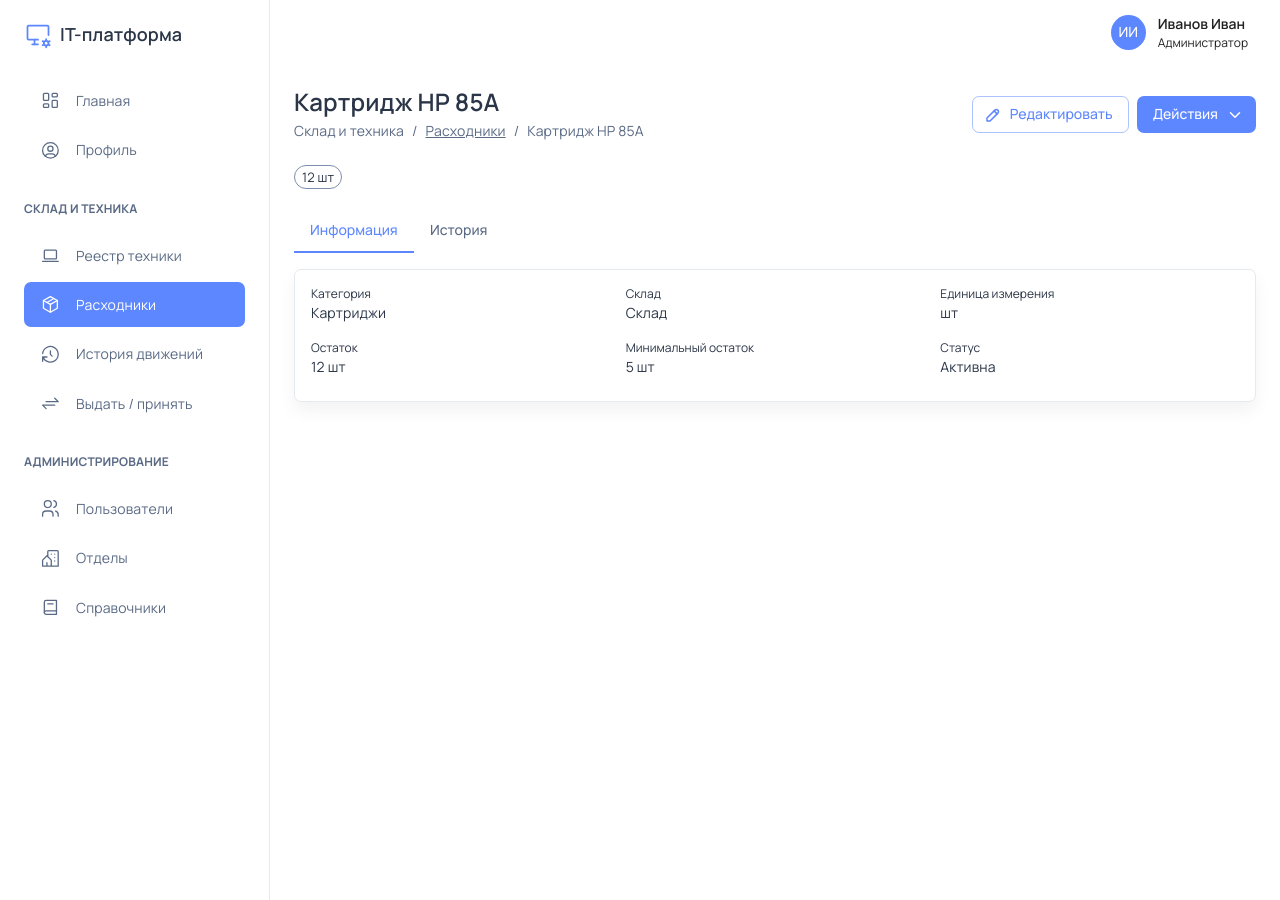
it: операция при изменившемся остатке: уведомление и перезагрузка карточки
The image size is (1280, 900).
Click the button "Действия": (1196, 115) left=1137, top=96, right=1256, bottom=133
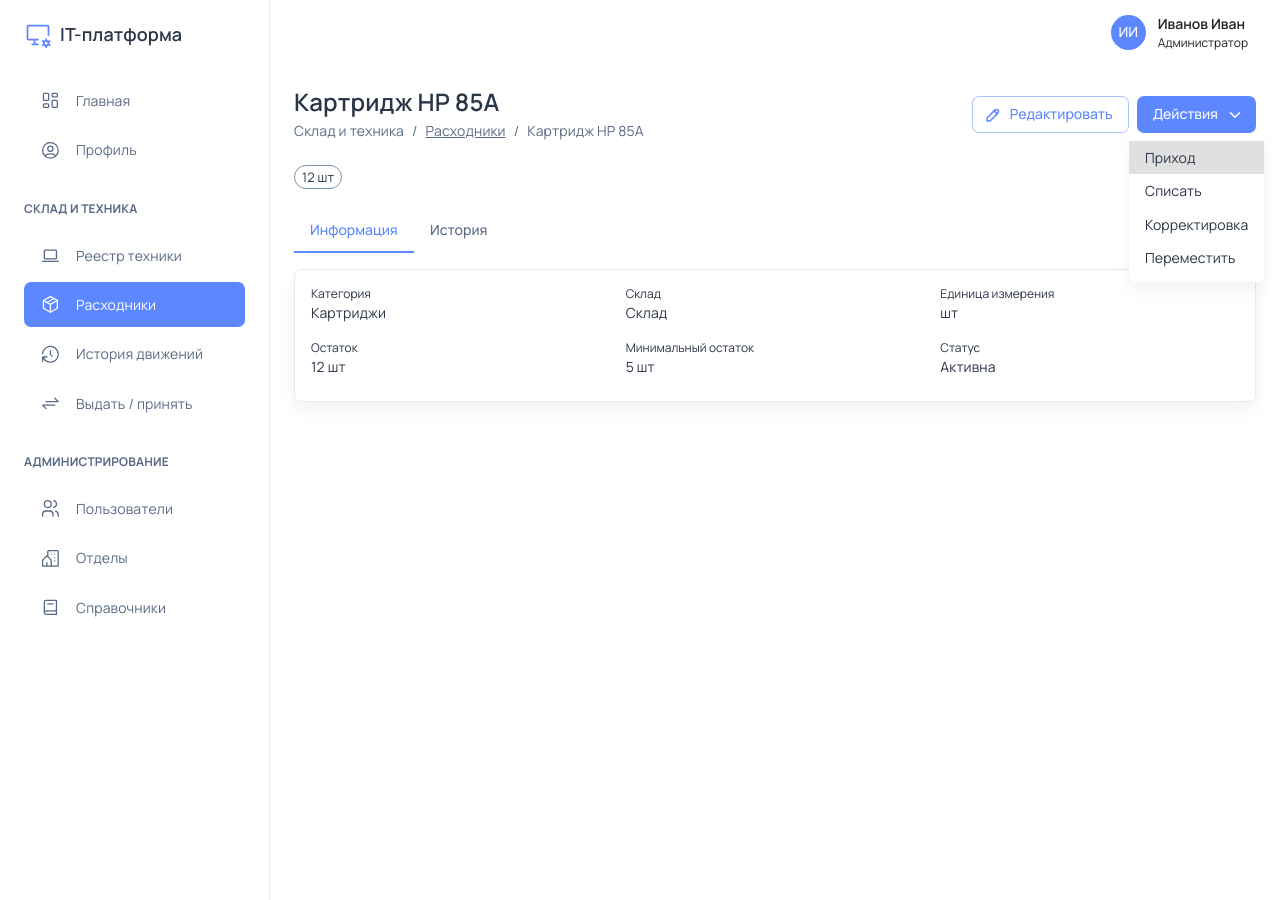
Click the menu item "Переместить": (1190, 258) left=1145, top=248, right=1236, bottom=267
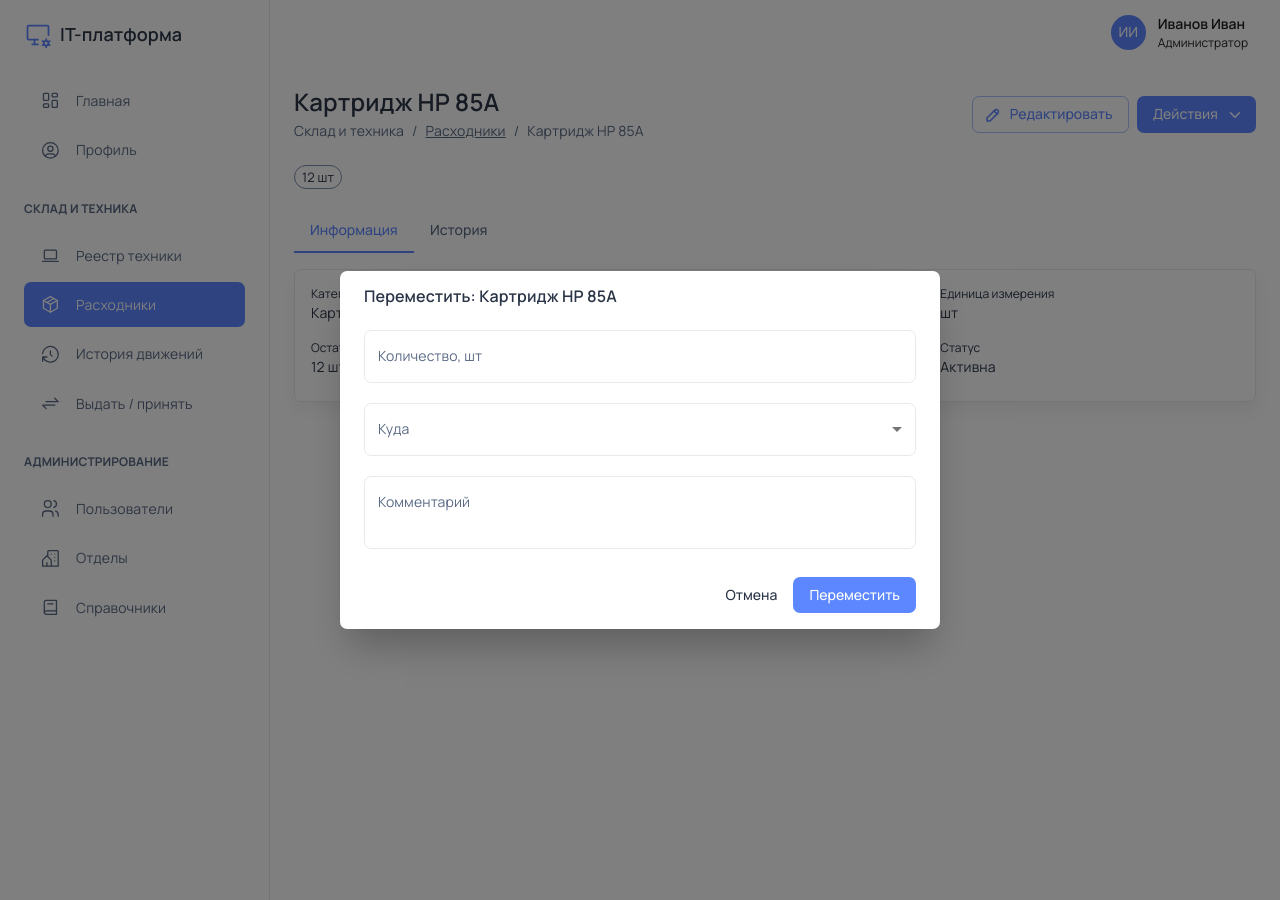
Click the dropdown named "Куда": (640, 429) left=364, top=403, right=916, bottom=456
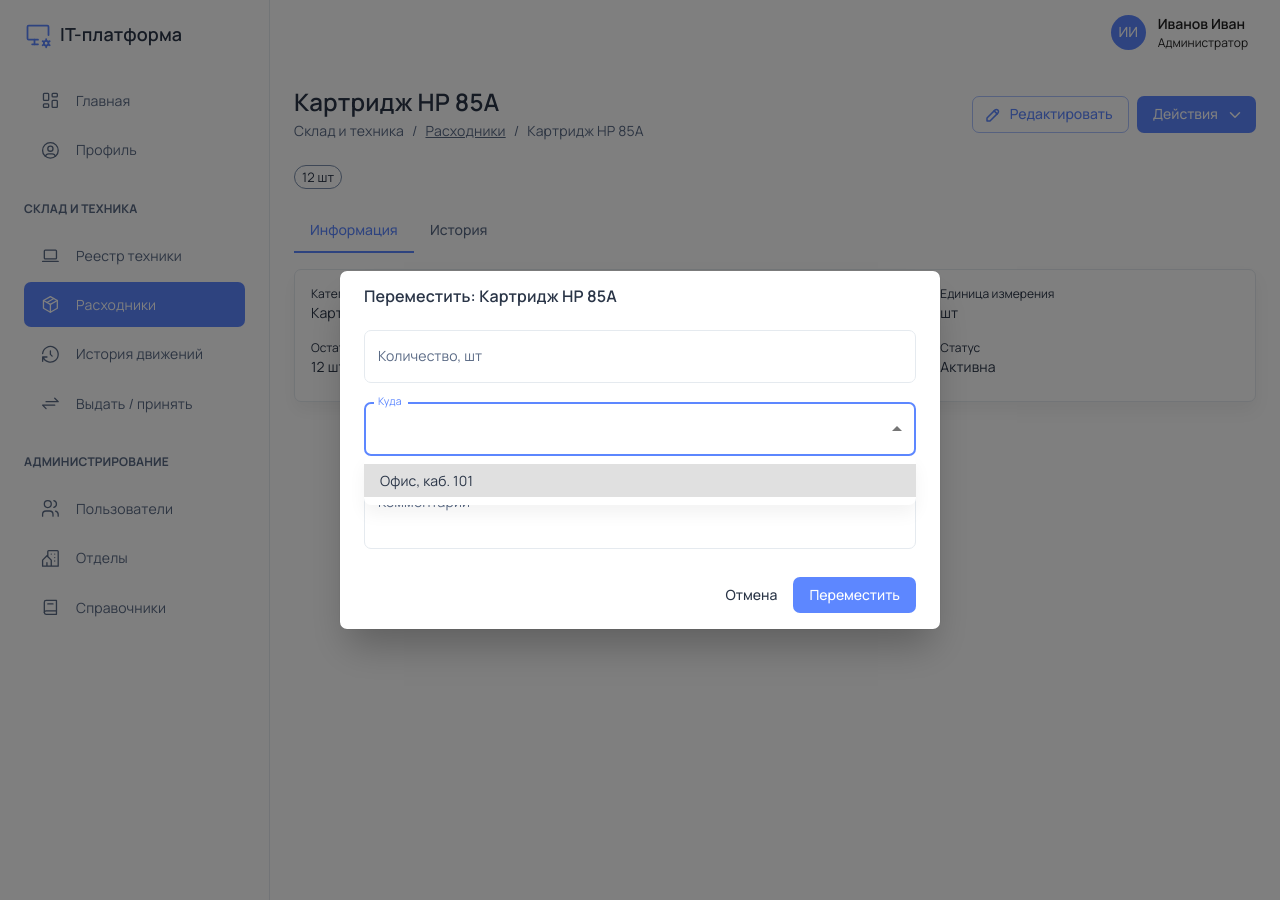
Click the option "Офис, каб. 101": (426, 480) left=364, top=464, right=916, bottom=497
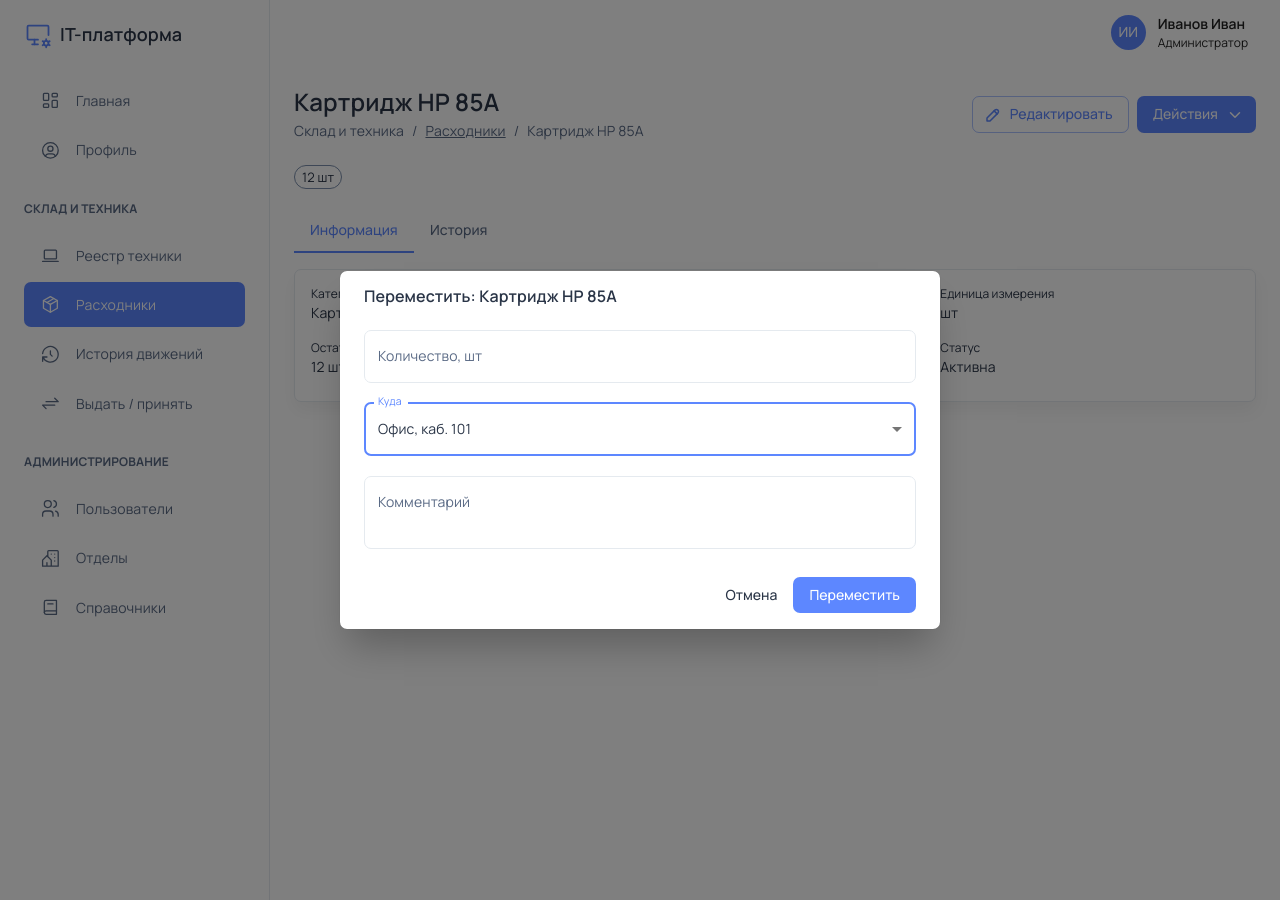
In the field labelled "Количество, шт": (640, 356) left=364, top=330, right=916, bottom=383, type "12"
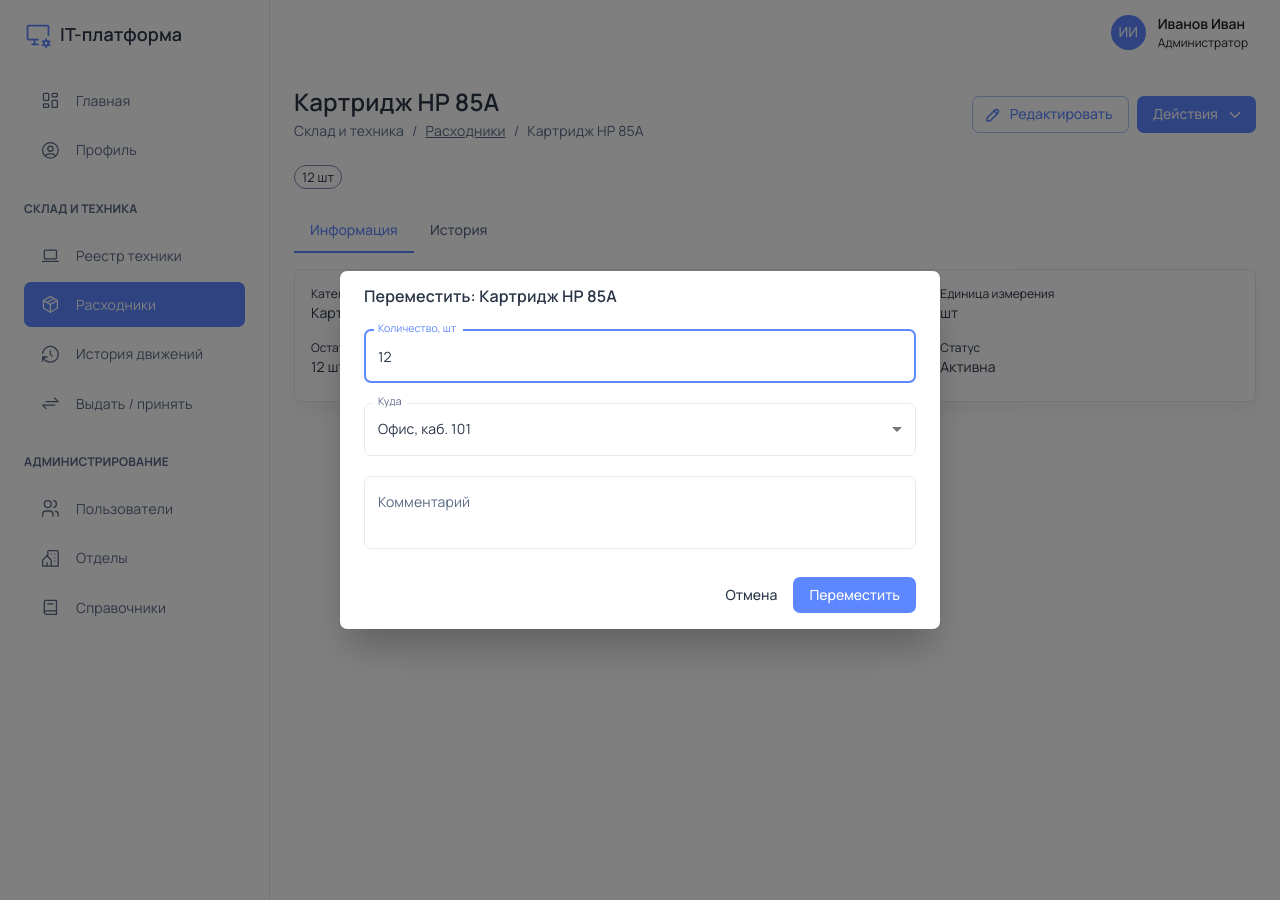
Click the button "Переместить": (855, 595) left=793, top=577, right=916, bottom=614
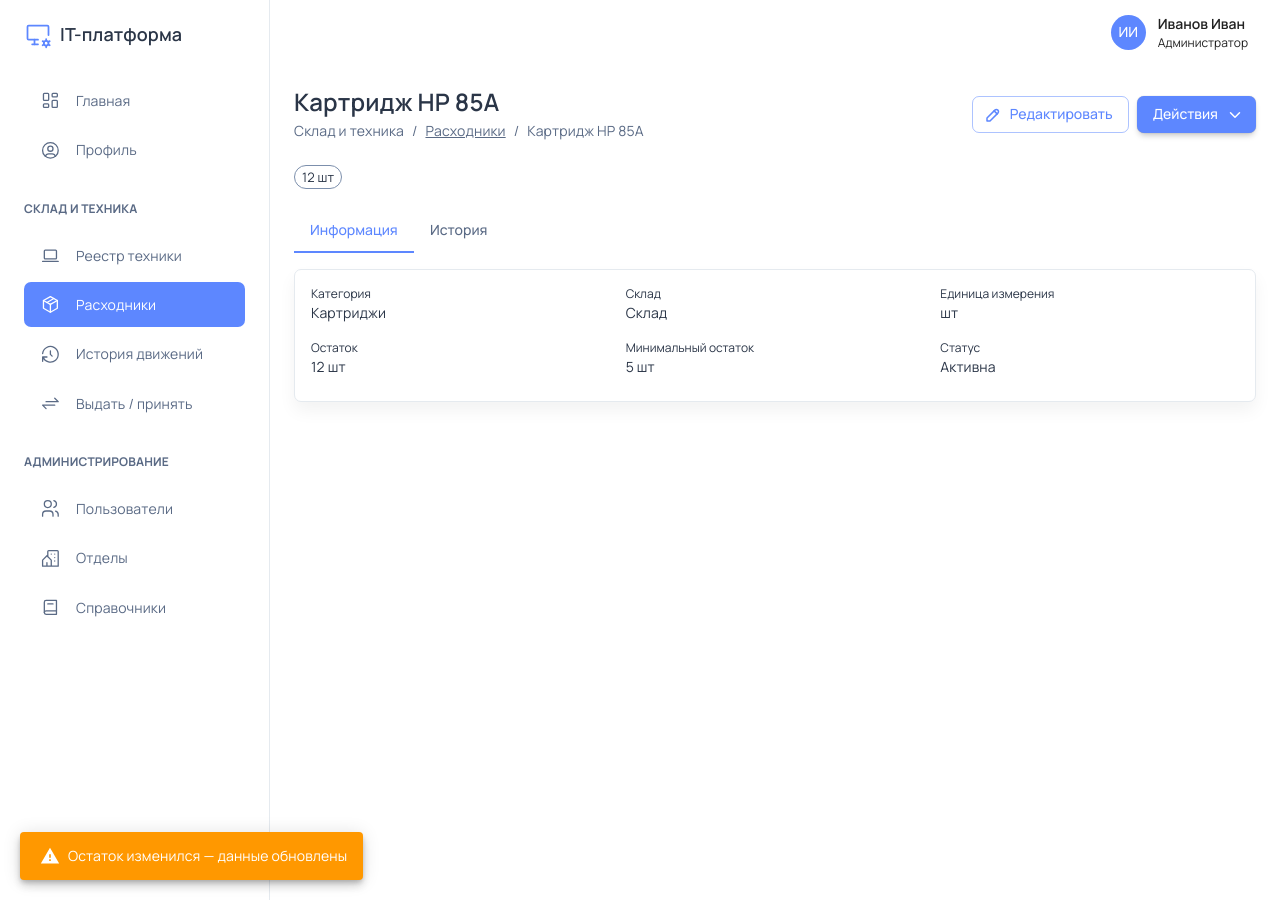
expect the text "Остаток изменился — данные обновлены" is shown: met, box left=40, top=846, right=347, bottom=866
expect the dialog is gone: met
